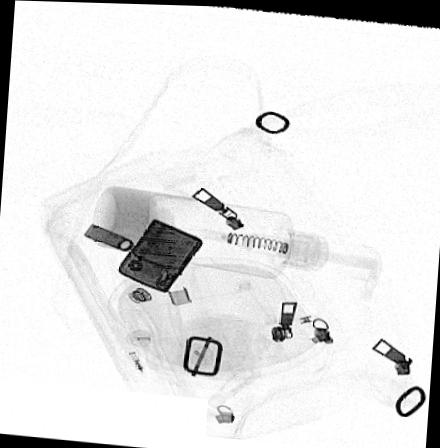Lighter: (118, 217, 204, 292)
